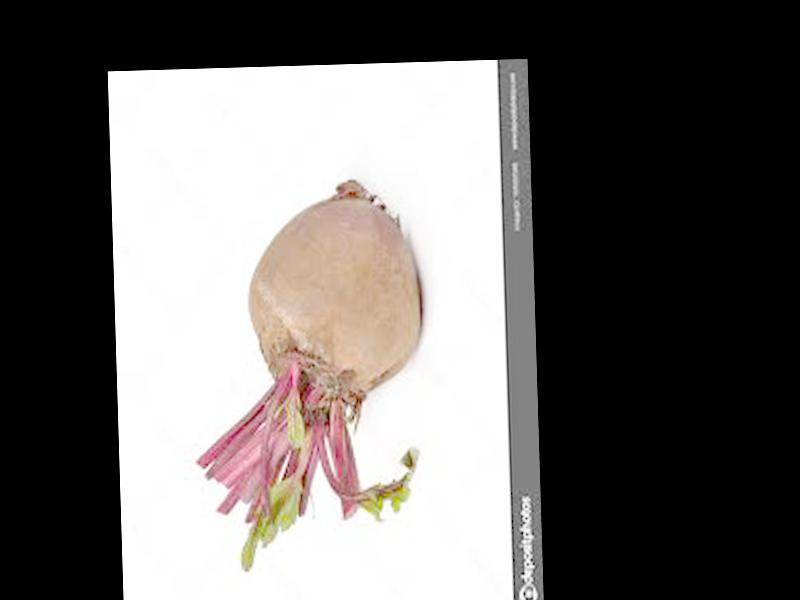Beet: (188, 177, 431, 573)
